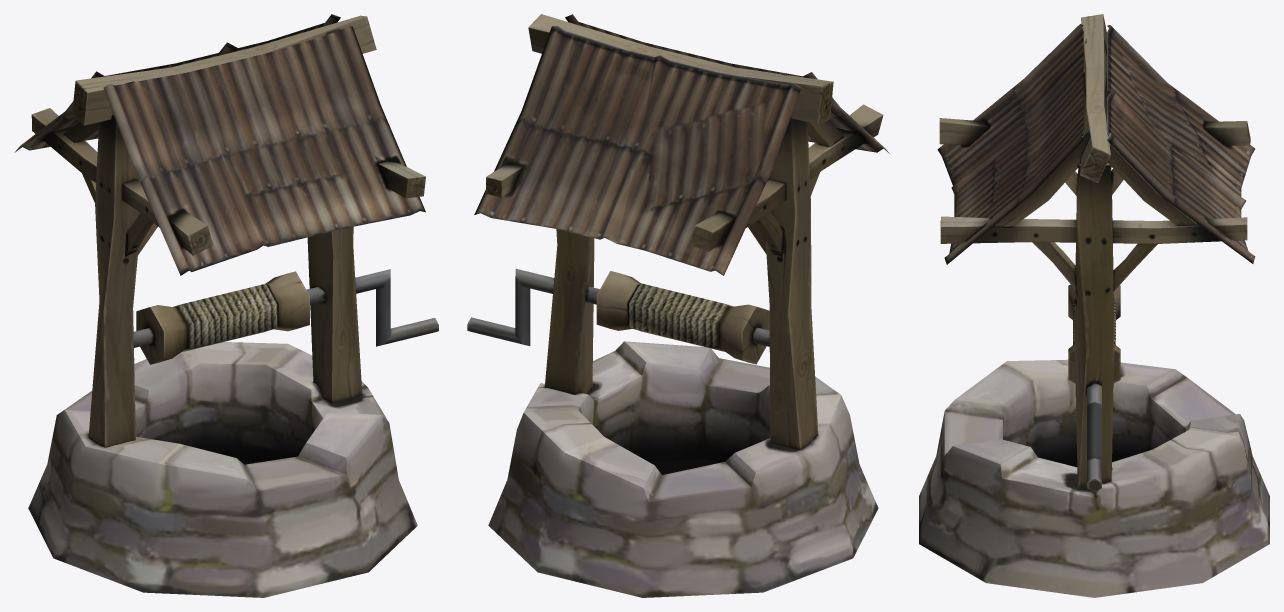
The model's file is well.fbx.
3 renders of one model, left to right at view 1: azimuth 30°, elevation 25°; view 2: azimuth 150°, elevation 25°; view 3: azimuth 270°, elevation 25°, orthographic. The views are drawn at different scales.
Visible parts, largest first — view 1: well, kurbel; view 2: well, kurbel; view 3: well, kurbel.
Boxes of the visible parts, x1,y1,x2,y2 form: well: [14, 14, 425, 597]; kurbel: [133, 269, 438, 364]; well: [474, 14, 889, 597]; kurbel: [467, 268, 769, 364]; well: [919, 14, 1269, 597]; kurbel: [1068, 284, 1120, 491].
Size of the model in its own units: 334 by 392 by 282.
